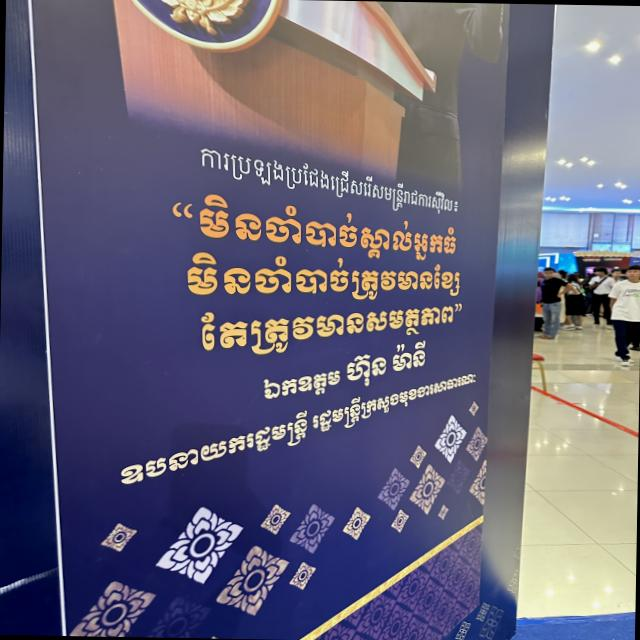1: (113, 367, 481, 494), (250, 338, 445, 413)
Yolov11_80vkh: (184, 132, 461, 217), (162, 188, 464, 261), (174, 299, 467, 362), (166, 254, 466, 304)
